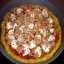pizza: (1, 3, 61, 64)
